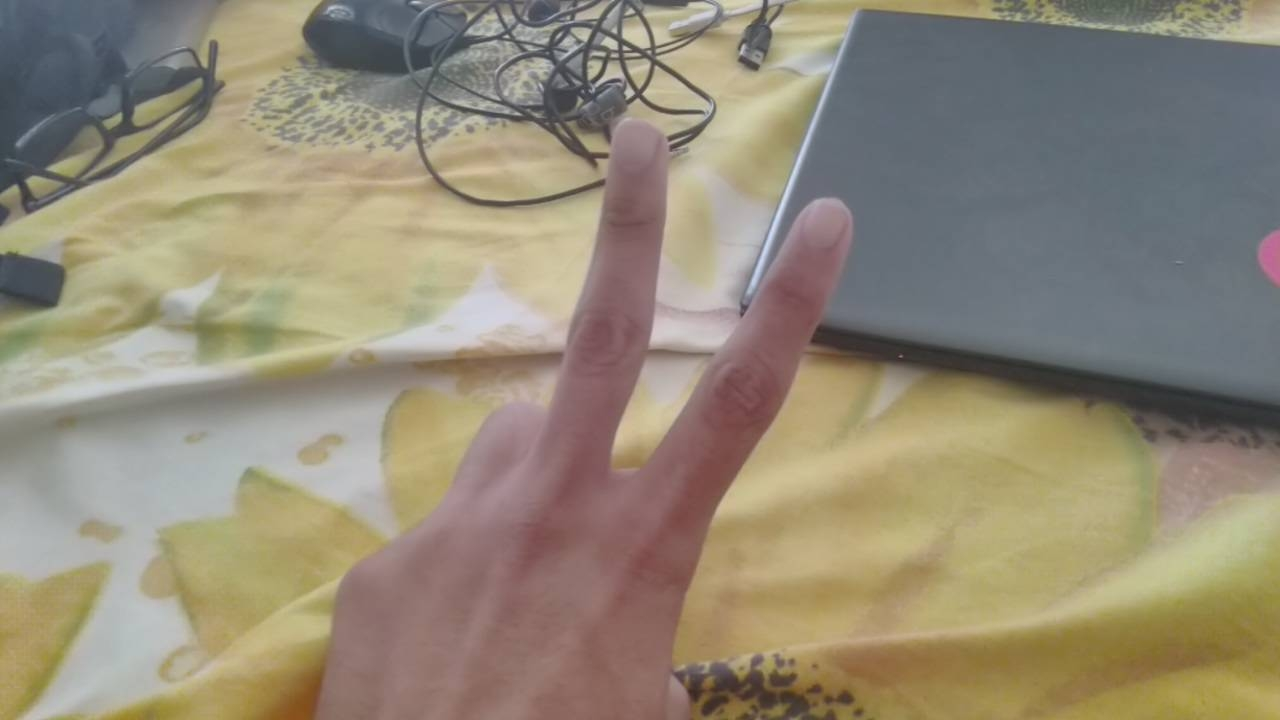fingertip: (606, 110, 668, 176), (796, 196, 858, 250)
